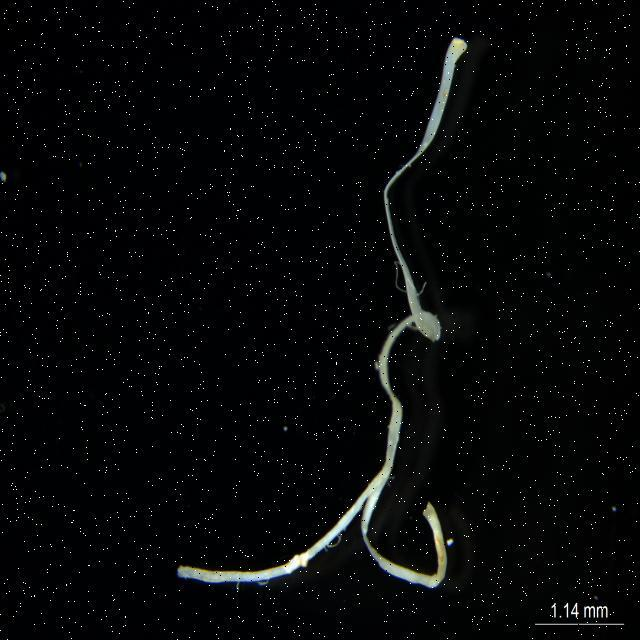Fibre: (171, 22, 489, 606)
